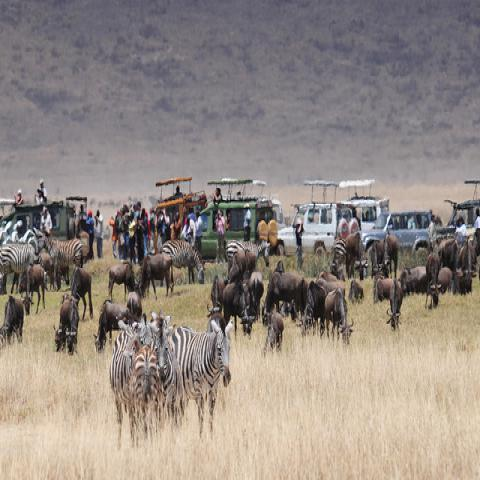car: (0, 200, 76, 241), (149, 197, 184, 235), (271, 200, 286, 230)
truck: (272, 180, 361, 257), (202, 178, 278, 256), (154, 177, 209, 255), (360, 210, 432, 264), (0, 201, 82, 241), (340, 178, 390, 233), (442, 177, 480, 234)
